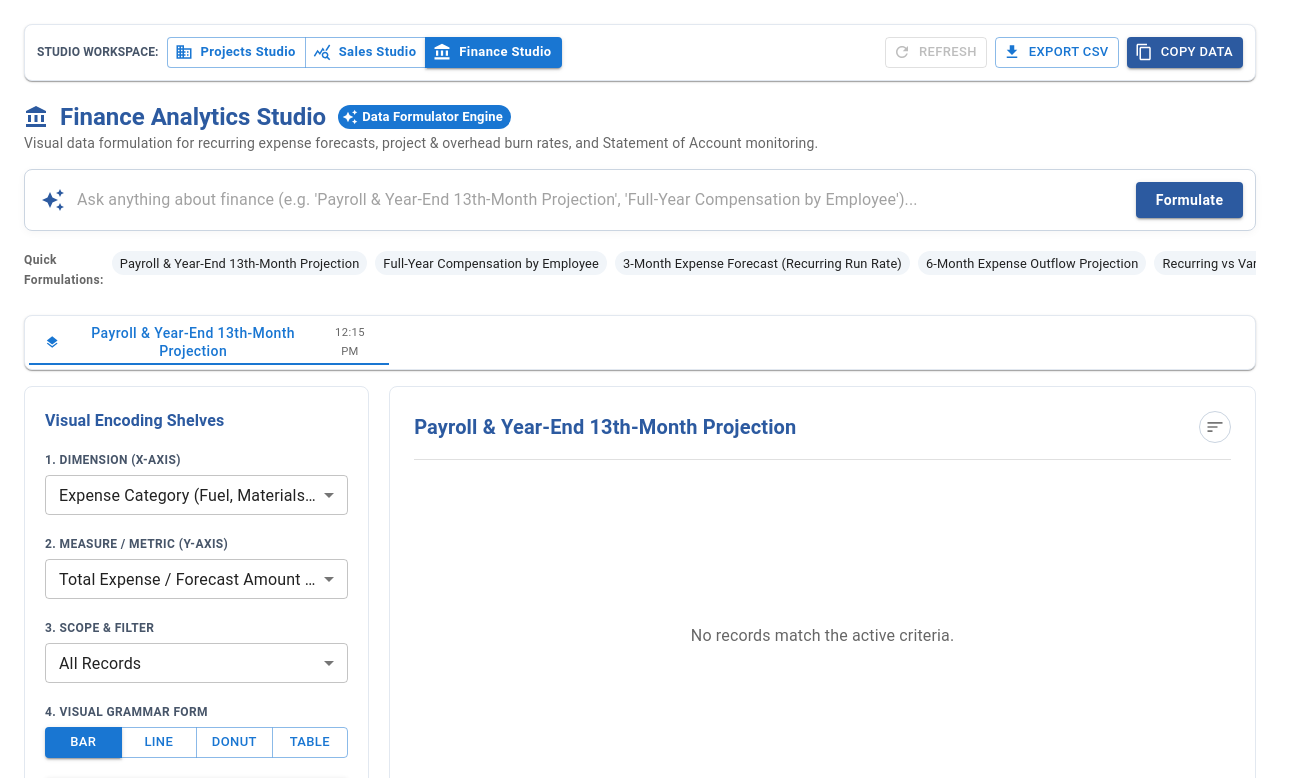
Test case: formulates an expense forecast from natural language query in Finance Studio
Replace the text in the field with placeholder "Ask anything about finance" with "Forecast next 6 months recurring expense burn" at (601, 200), box [77,184,1124,216]
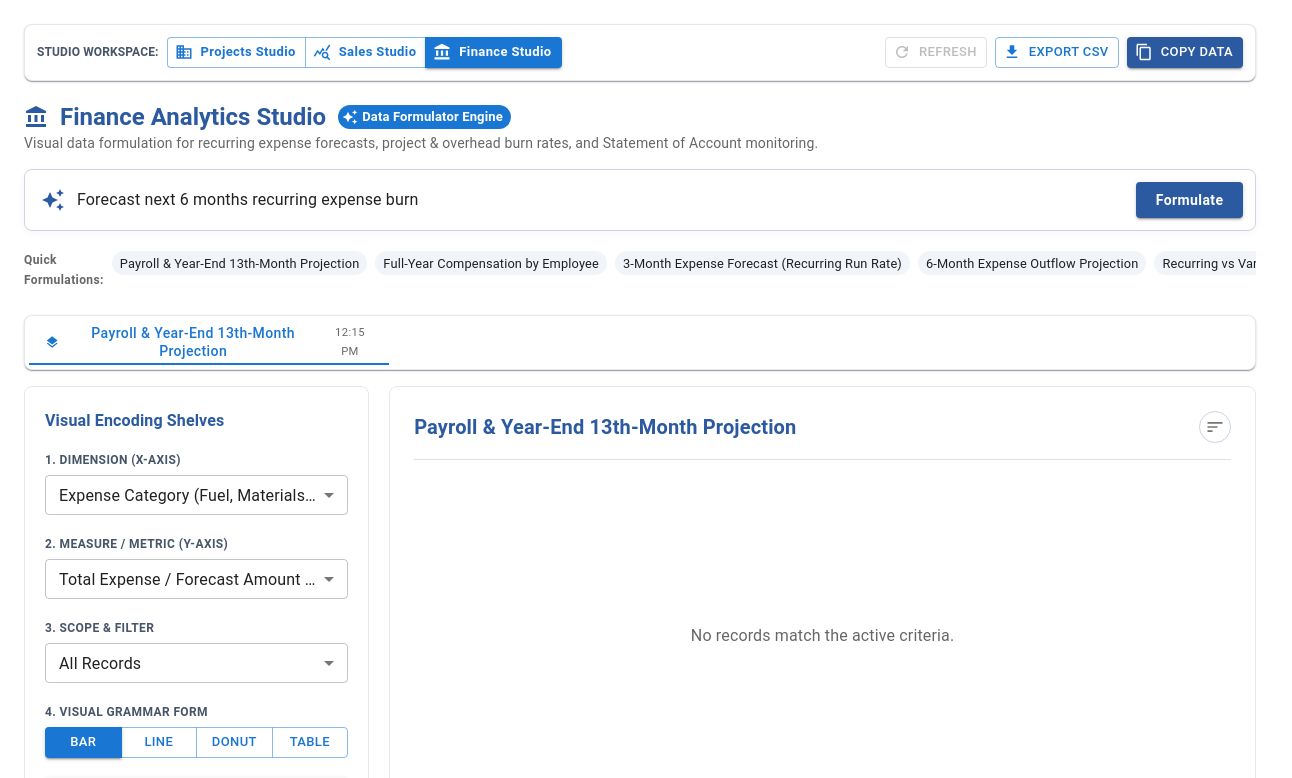
Click the button "Formulate" at (1190, 200), box [1136,182,1243,218]
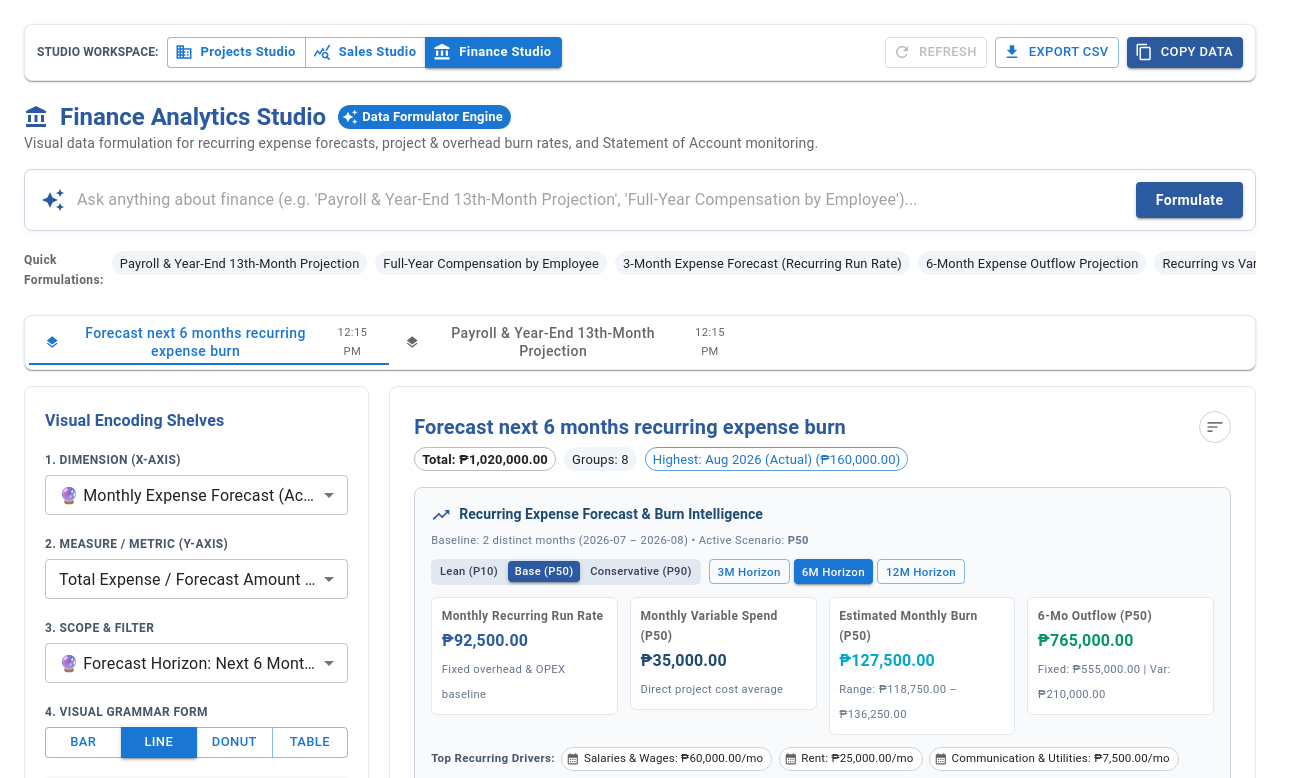
Result: the text "Forecast next 6 months recurring expense burn" is shown at [67,325,324,360]
